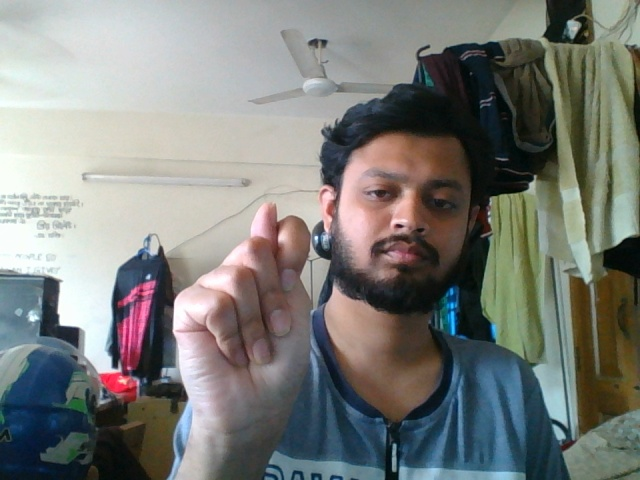ta: (173, 198, 317, 459)
